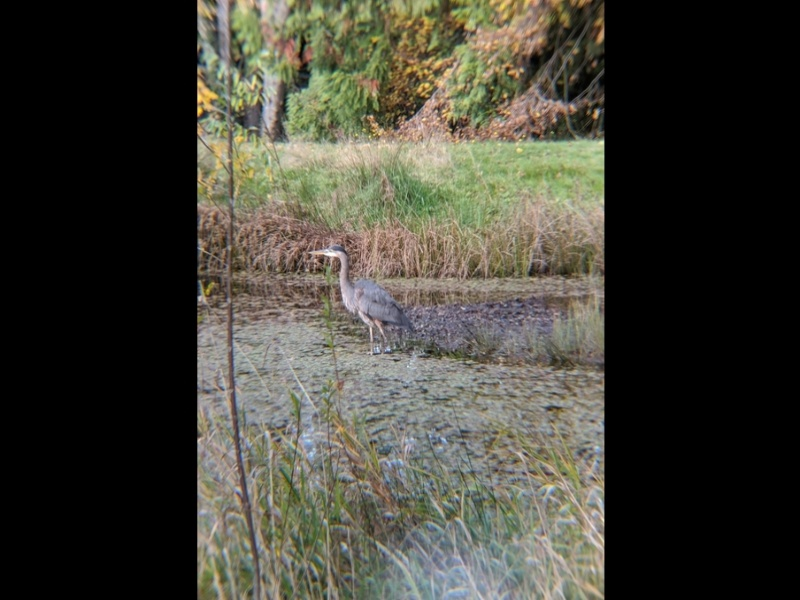heron: (309, 247, 414, 354)
